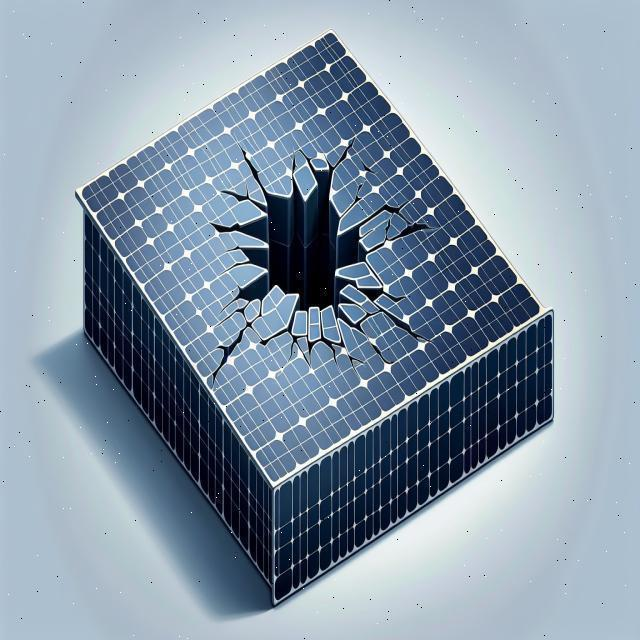Anomaly Solar Panel: (79, 12, 545, 486)
Structural Damage: (211, 157, 389, 347), (192, 289, 311, 388), (287, 306, 379, 386), (331, 288, 413, 368), (350, 186, 438, 256), (370, 300, 434, 351), (217, 168, 275, 217), (231, 138, 273, 202), (316, 126, 363, 174), (215, 282, 253, 324), (336, 179, 368, 223), (215, 255, 250, 276), (296, 144, 316, 177), (206, 219, 239, 234), (381, 289, 406, 306), (357, 159, 379, 176), (222, 242, 240, 254), (290, 145, 296, 173)
